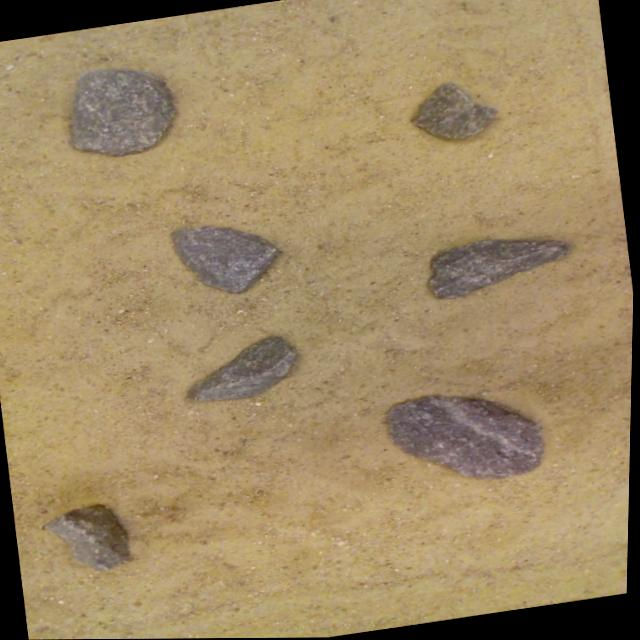rock: (388, 398, 544, 480), (70, 70, 174, 157), (428, 242, 567, 299), (171, 227, 279, 294), (188, 338, 296, 402), (44, 505, 131, 571), (411, 85, 495, 141)
